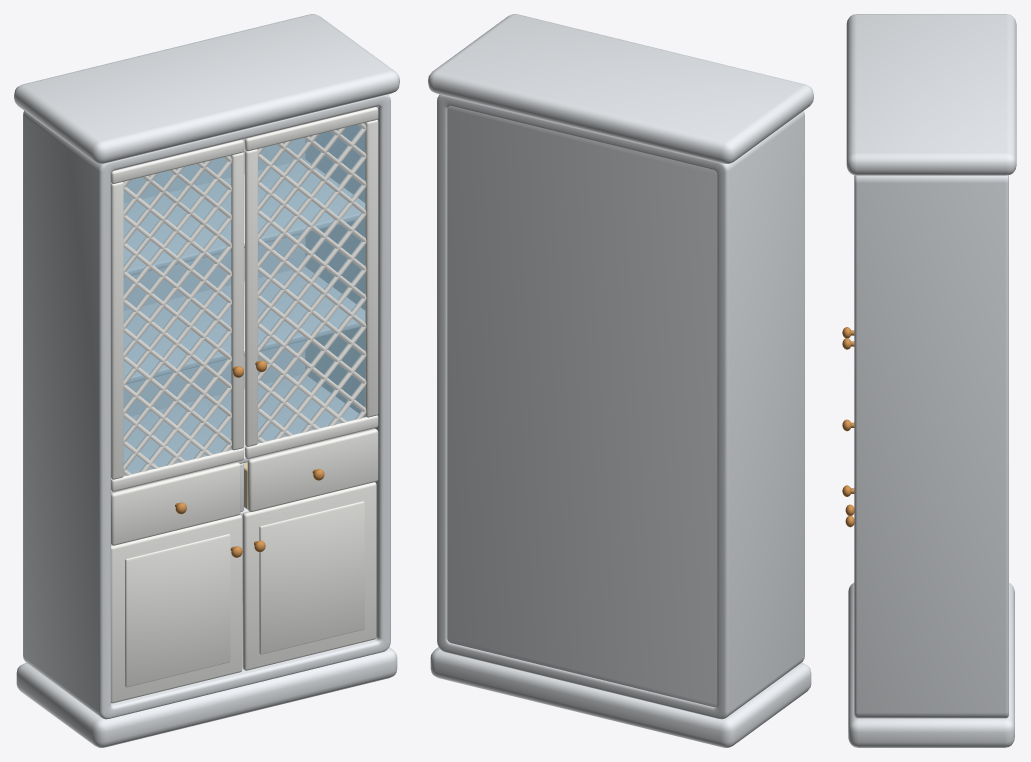
Rendered from cristaleira_branco.glb.
The picture shows the model from 3 angles, left to right: view 1: azimuth 30°, elevation 25°; view 2: azimuth 150°, elevation 25°; view 3: azimuth 270°, elevation 25°; orthographic projection. The views are drawn at different scales.
Parts seen in each view (by area): view 1: cristaleira_branco, porta_2, porta_1, porta_4, porta_3, gaveta_2, gaveta_1; view 2: cristaleira_branco; view 3: cristaleira_branco.
Part boxes in pixels (<box>): cristaleira_branco: <box>14,14,399,747</box>; porta_2: <box>245,107,378,458</box>; porta_1: <box>111,139,243,491</box>; porta_4: <box>242,482,376,670</box>; porta_3: <box>111,515,242,703</box>; gaveta_2: <box>243,428,378,511</box>; gaveta_1: <box>111,462,240,545</box>; cristaleira_branco: <box>428,14,813,747</box>; cristaleira_branco: <box>846,14,1016,747</box>.
Size of the model in its own units: 1.01 by 1.91 by 0.5071.
2 materials, 1 textured.
